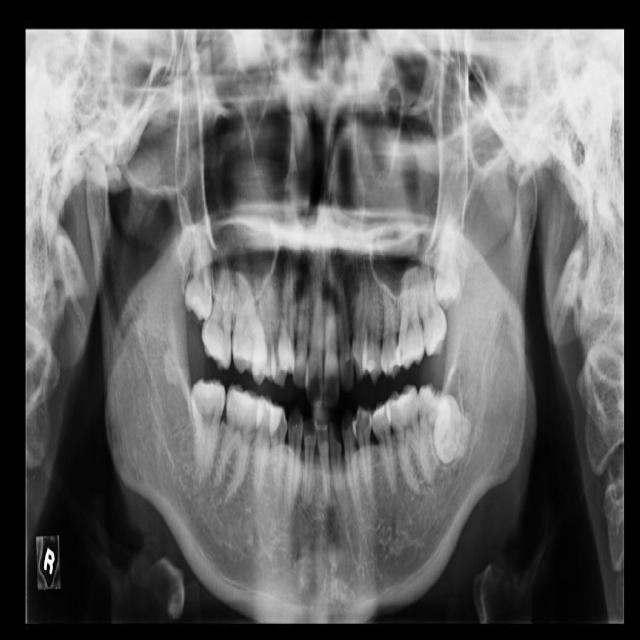3M ESPE Implant: (184, 225, 213, 321)
73: (564, 574, 572, 592)
BioHorizons Implant: (412, 252, 451, 358)
BioLife Implant: (435, 214, 461, 310)
Biomet 3i Implant: (427, 392, 479, 468)
Blue Sky Bio Implant: (416, 382, 453, 485)
Caries: (199, 256, 238, 371)
Implant: (190, 377, 227, 485)
